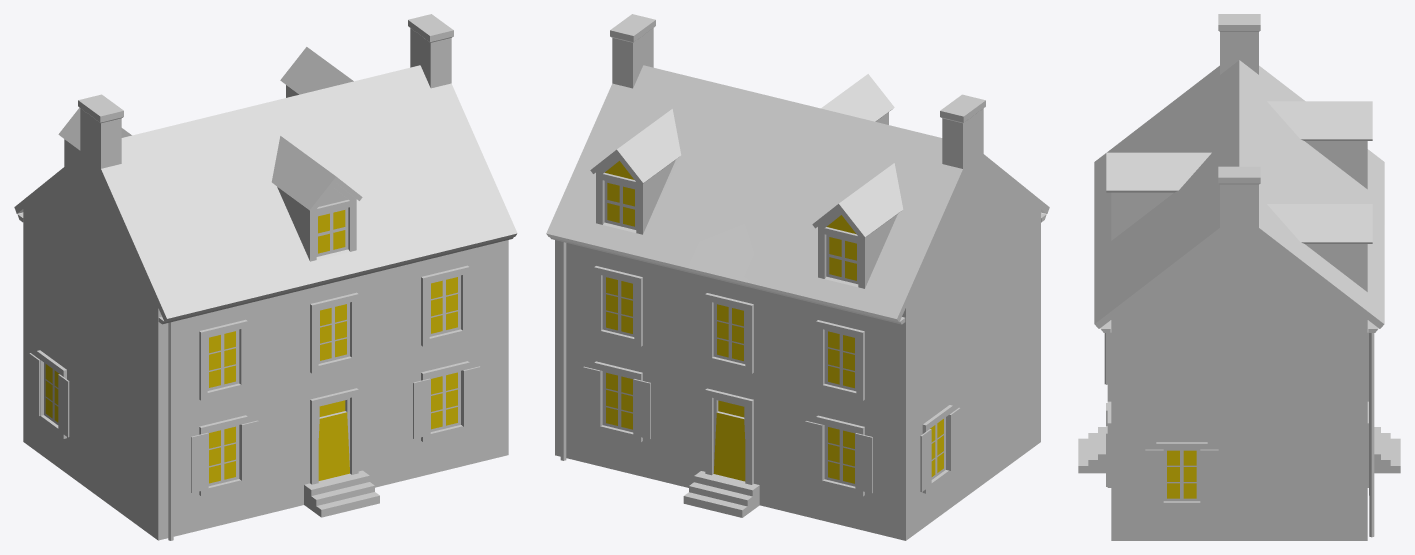
File: Building_24.fbx
3 views of the same model, side by side, from view 1: azimuth 30°, elevation 25°; view 2: azimuth 150°, elevation 25°; view 3: azimuth 270°, elevation 25° (orthographic). The views are drawn at different scales.
Visible parts, largest first — view 1: building-house-middle; view 2: building-house-middle; view 3: building-house-middle.
Boxes of the visible parts, x1,y1,x2,y2 form: building-house-middle: (14,14,517,540); building-house-middle: (546,14,1049,540); building-house-middle: (1078,14,1400,540).
Size of the model in its own units: 5.66 by 5.74 by 4.61.
